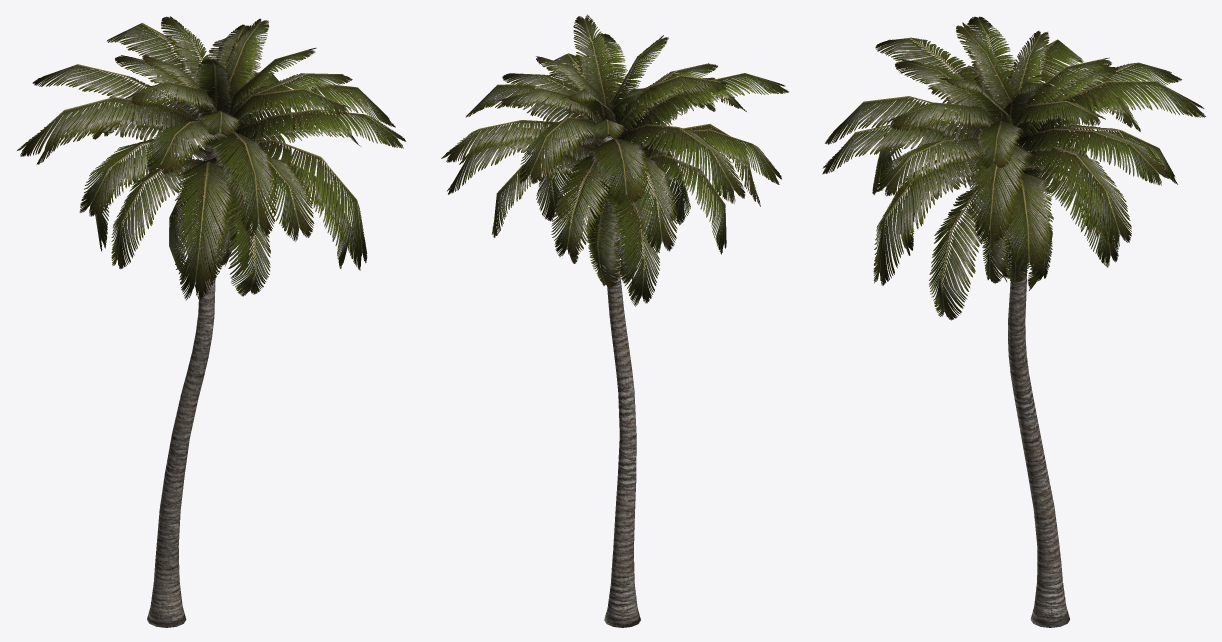
File: Palmu2_2.fbx
3 views of the same model, side by side, from view 1: azimuth 30°, elevation 25°; view 2: azimuth 150°, elevation 25°; view 3: azimuth 270°, elevation 25° (orthographic). The views are drawn at different scales.
Visible parts, largest first — view 1: Palmu2; view 2: Palmu2; view 3: Palmu2.
Part boxes in pixels (x1=…): Palmu2: x1=17, y1=16, x2=405, y2=627; Palmu2: x1=441, y1=14, x2=788, y2=627; Palmu2: x1=822, y1=16, x2=1205, y2=627.
Size of the model in its own units: 597 by 1001 by 589.
